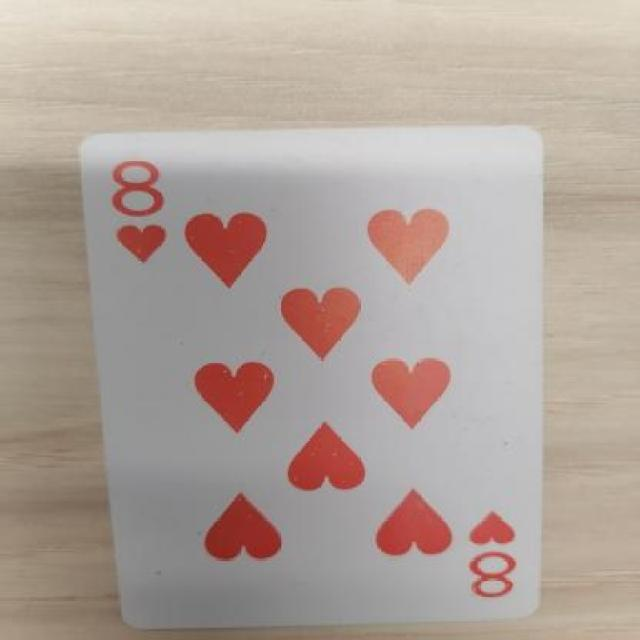8H: (448, 498, 548, 607), (103, 150, 185, 282)
